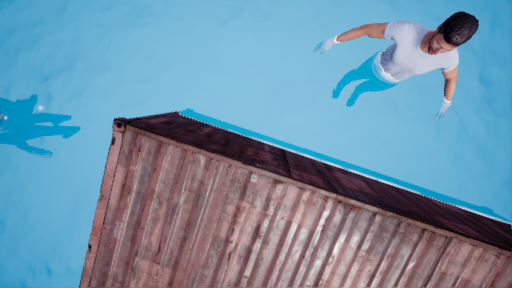person: (304, 3, 484, 125)
